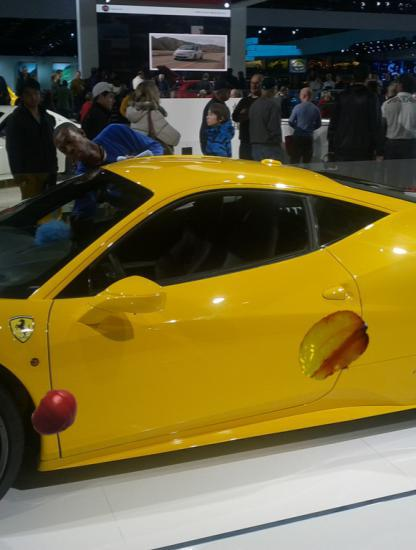Carambula: (293, 306, 374, 387)
Tomato: (28, 386, 81, 439)
